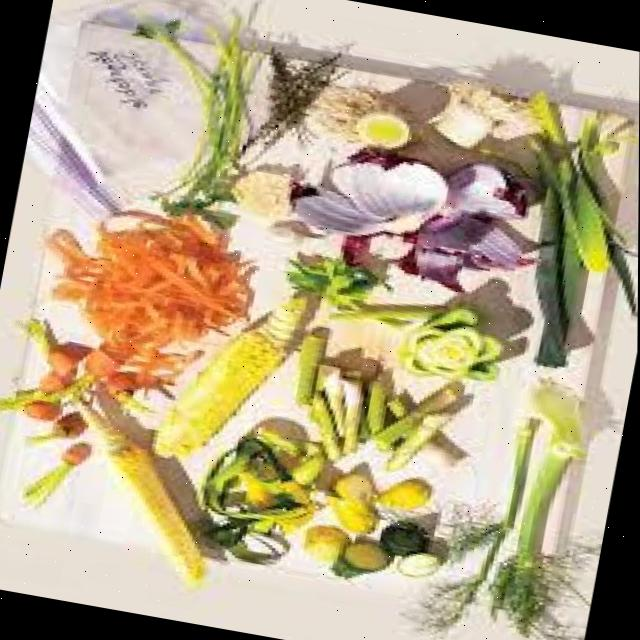Wet: (0, 0, 640, 640), (169, 256, 546, 635), (0, 169, 260, 433), (248, 61, 481, 174)
